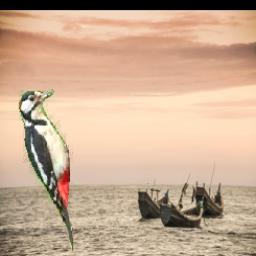Woodpecker: (19, 89, 73, 253)
